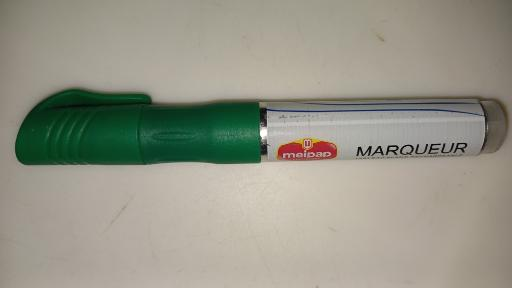Whiteboard marker: (16, 89, 507, 167)
